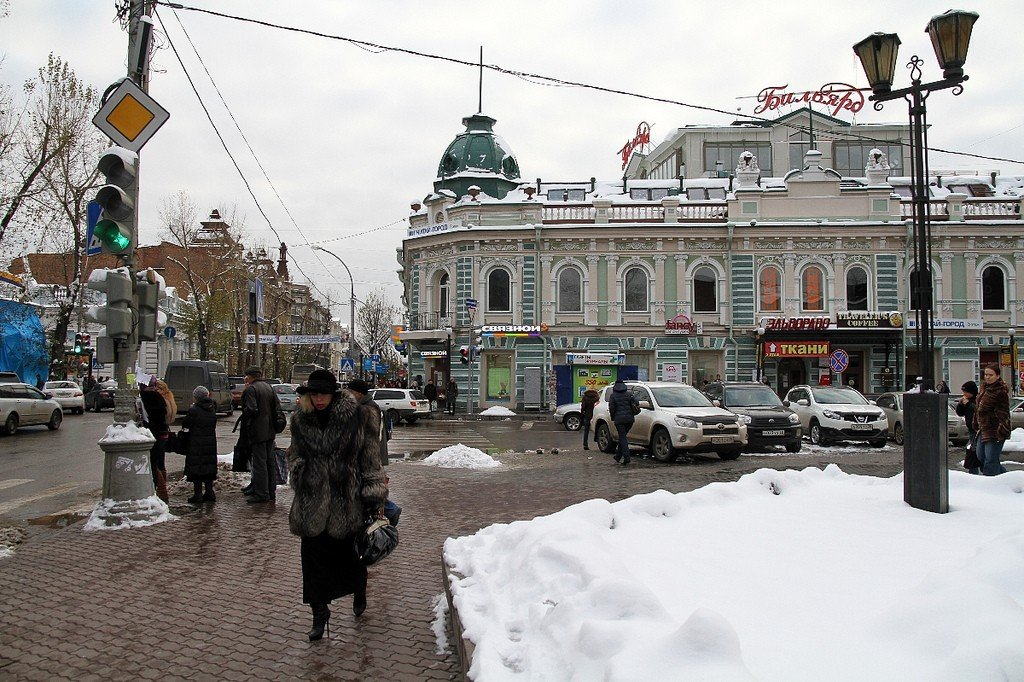sign: (88, 77, 170, 159), (233, 276, 284, 327), (823, 346, 852, 375), (158, 319, 183, 344), (337, 352, 357, 372)
